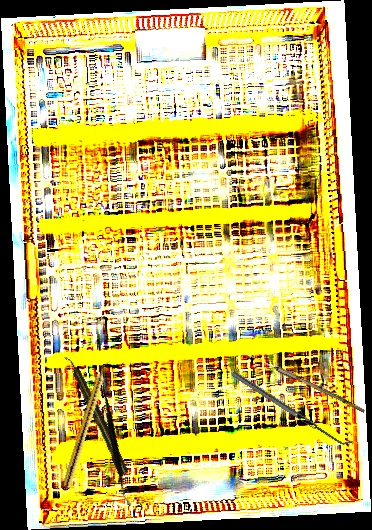Handpiece: (63, 352, 131, 479), (62, 358, 112, 489)
Spatula Surgical: (46, 372, 179, 507), (231, 366, 354, 451)
Surgical Spoon: (243, 351, 367, 413)
